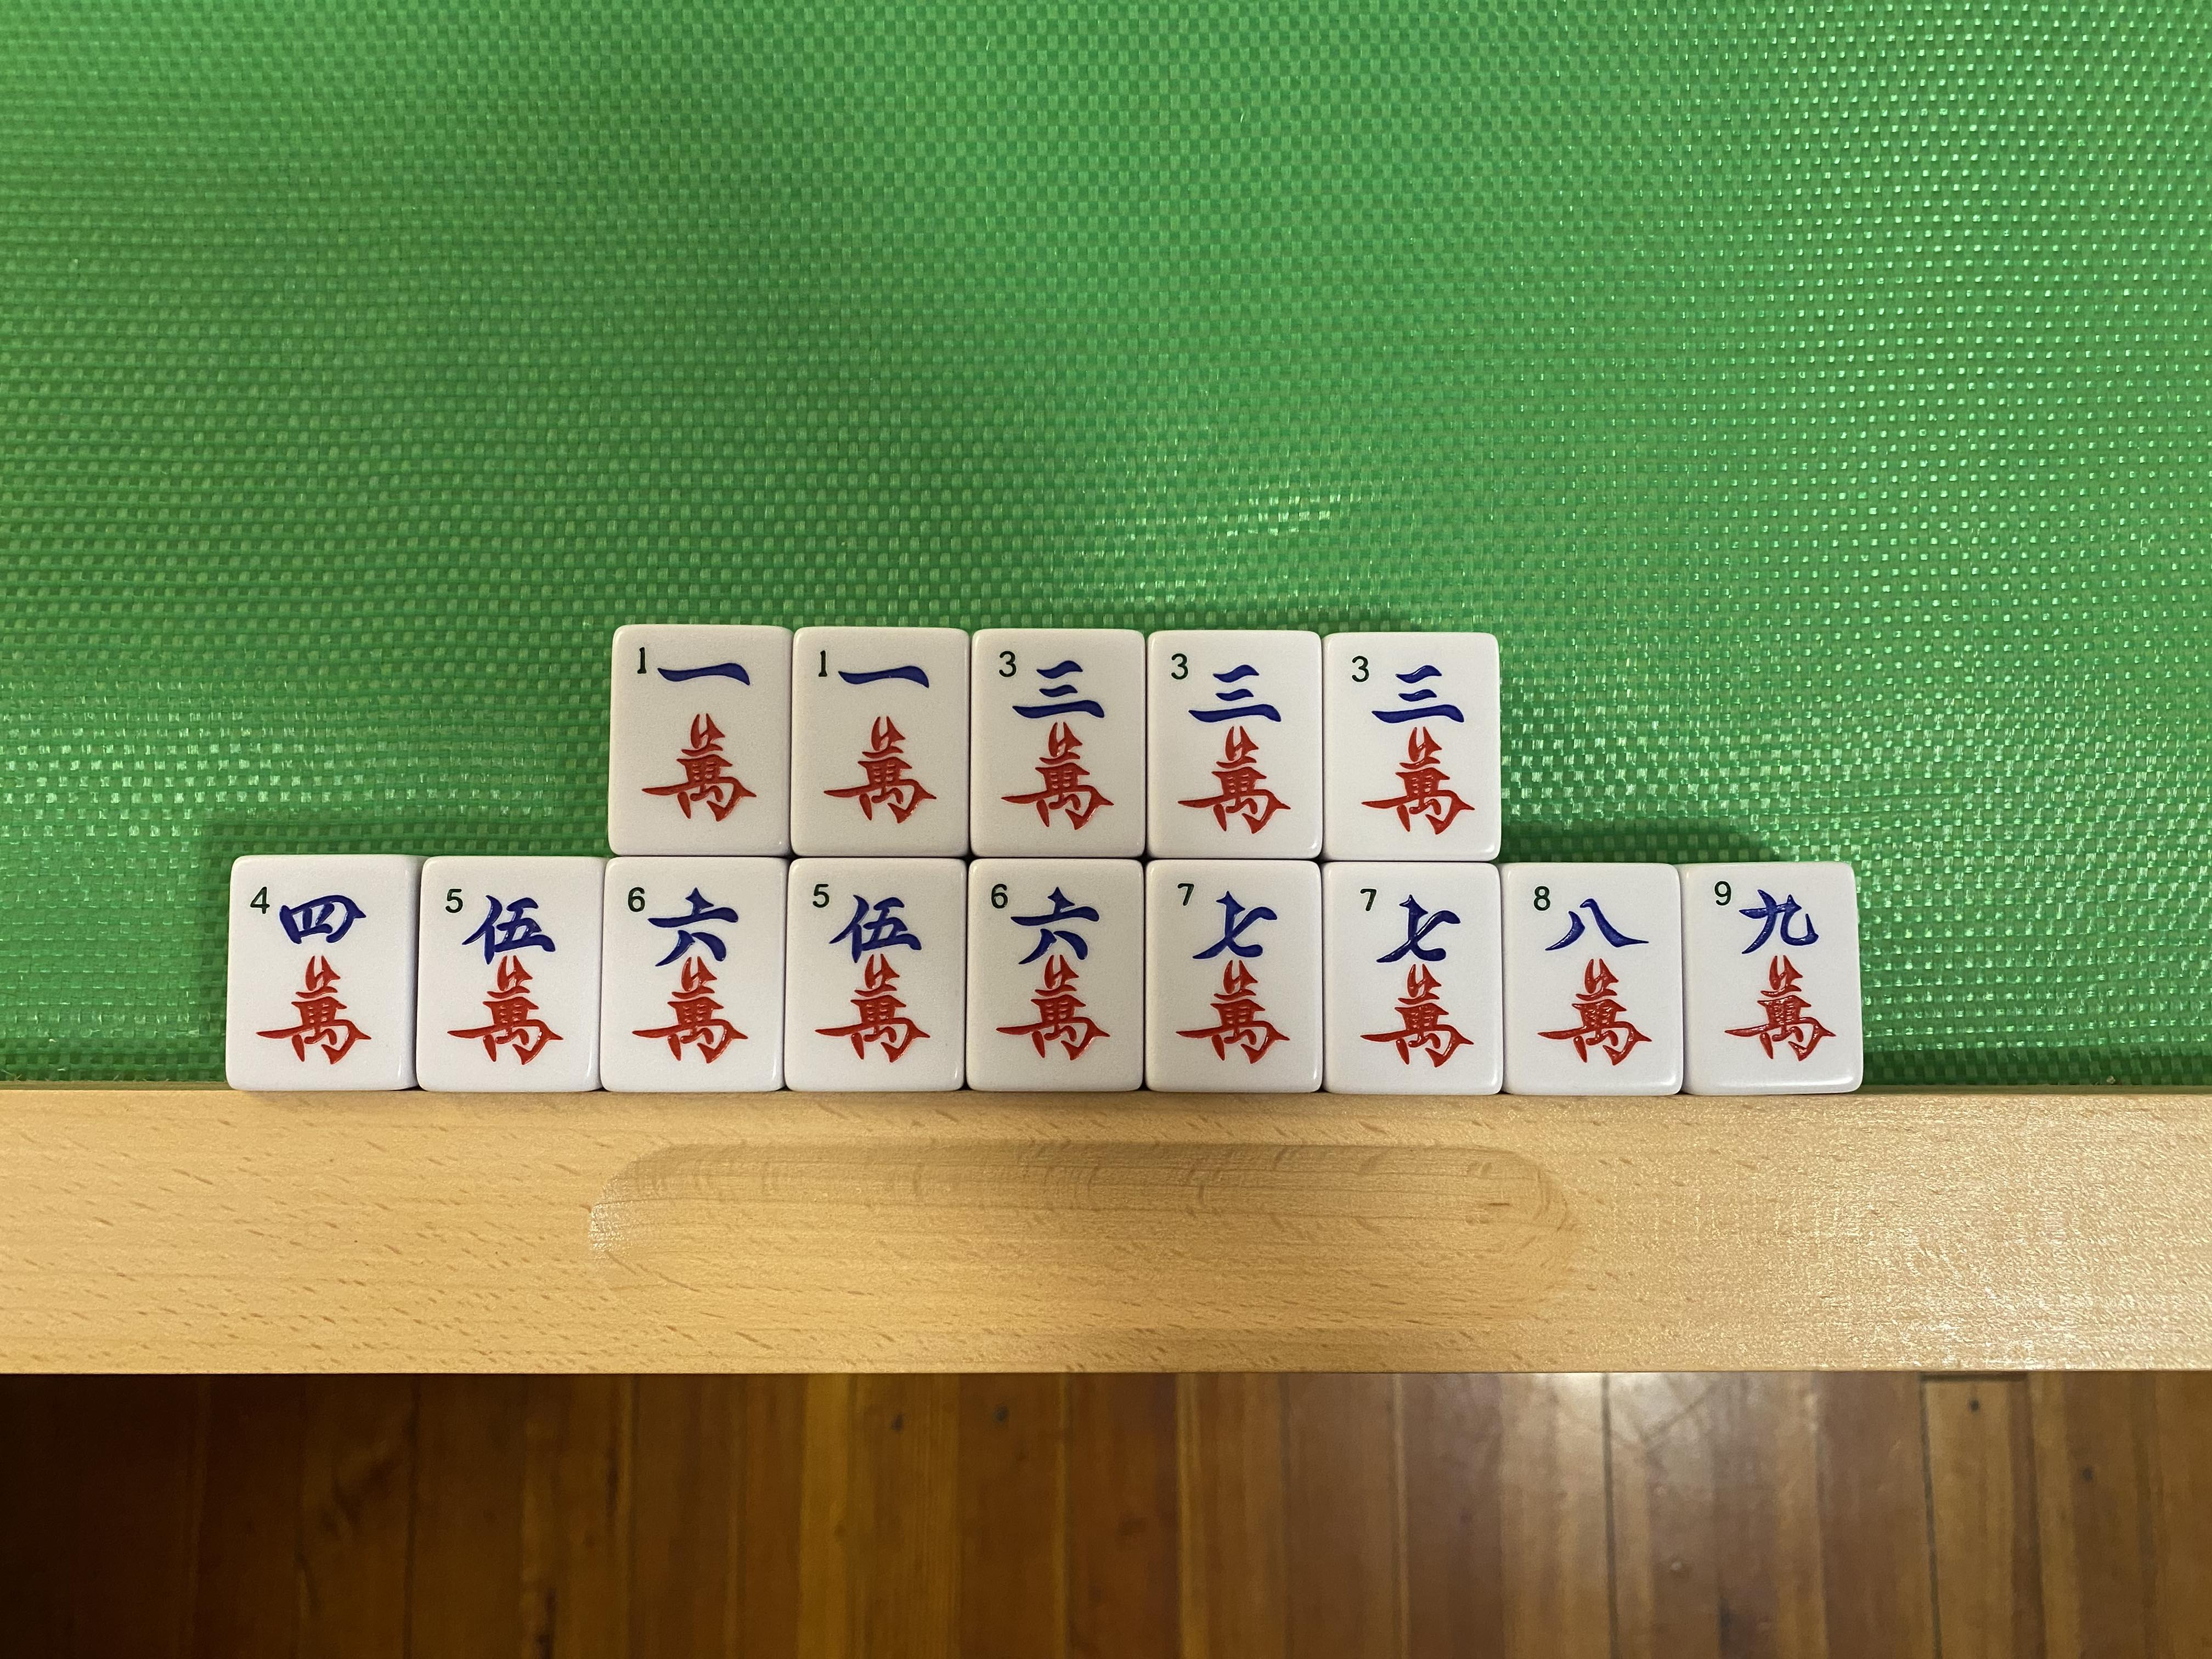character-eight: (1507, 866, 1684, 1091)
character-five: (791, 859, 967, 1091), (423, 861, 596, 1091)
character-four: (235, 861, 413, 1089)
character-nine: (1683, 868, 1860, 1094)
character-one: (792, 627, 970, 856), (615, 627, 791, 856)
character-seven: (1327, 863, 1503, 1093), (1148, 859, 1322, 1089)
character-six: (604, 857, 782, 1091), (968, 859, 1143, 1091)
character-three: (1322, 634, 1500, 857), (1148, 631, 1320, 857), (974, 631, 1143, 854)
